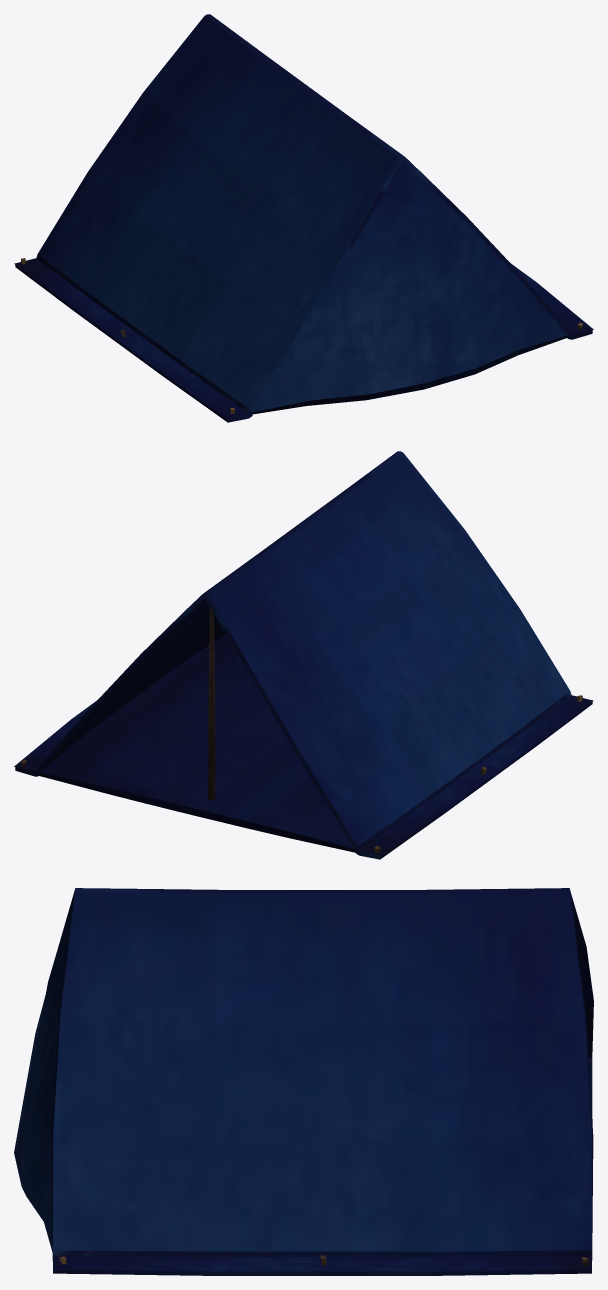
The model's file is tentOpen_Blue.fbx.
3 views of the same model, one above another, from view 1: azimuth 30°, elevation 25°; view 2: azimuth 150°, elevation 25°; view 3: azimuth 270°, elevation 25° (orthographic). The views are drawn at different scales.
Parts seen in each view (by area): view 1: TentOpen_Blue; view 2: TentOpen_Blue; view 3: TentOpen_Blue.
Boxes of the visible parts, left/top/right/bottom form: TentOpen_Blue: left=14, top=14, right=593, bottom=422; TentOpen_Blue: left=14, top=451, right=593, bottom=859; TentOpen_Blue: left=14, top=888, right=593, bottom=1275.
Size of the model in its own units: 6.49 by 6.85 by 3.6.
2 materials, 2 textured.
